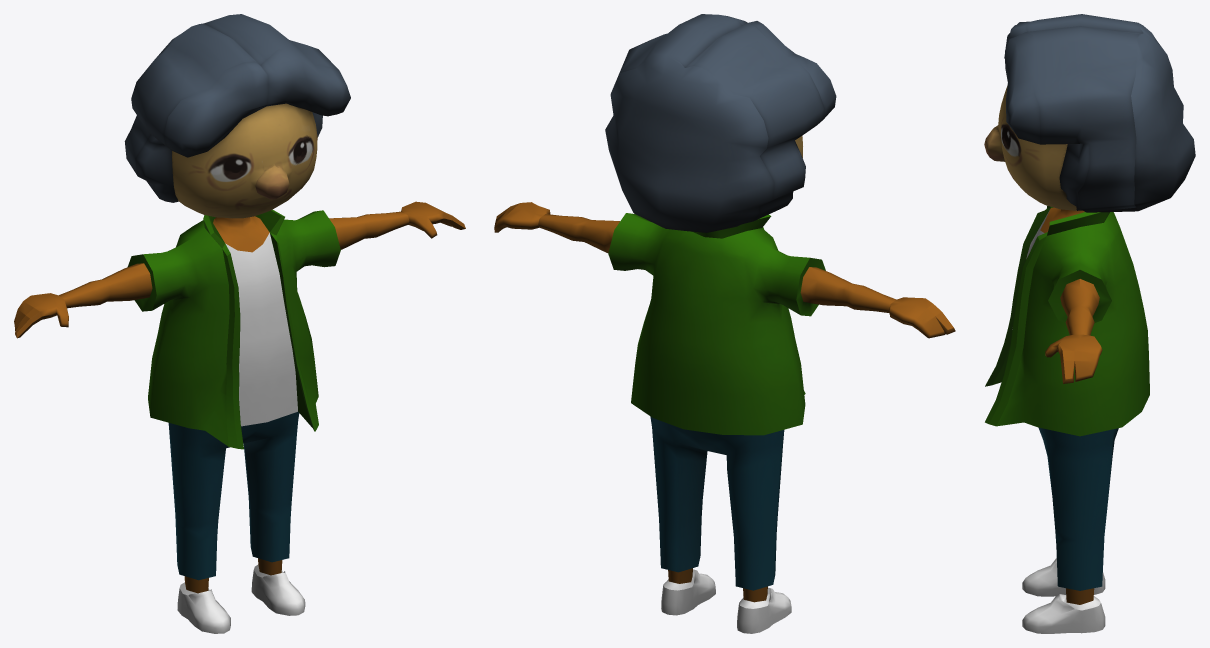
The model's file is Marjorie.fbx.
The picture shows the model from 3 angles, left to right: view 1: azimuth 30°, elevation 25°; view 2: azimuth 150°, elevation 25°; view 3: azimuth 270°, elevation 25°; orthographic projection. The views are drawn at different scales.
Parts seen in each view (by area): view 1: Body6, Hair1, Face1; view 2: Body6, Hair1; view 3: Body6, Hair1, Face1.
Boxes of the visible parts, x1,y1,x2,y2 form: Body6: (14,201,465,633); Hair1: (124,14,350,202); Face1: (172,103,317,218); Body6: (494,202,955,633); Hair1: (605,14,836,232); Body6: (985,206,1149,633); Hair1: (1004,14,1195,212); Face1: (984,85,1076,210).
Bounding box in the file's own units: 2.61 × 3.18 × 1.03.
